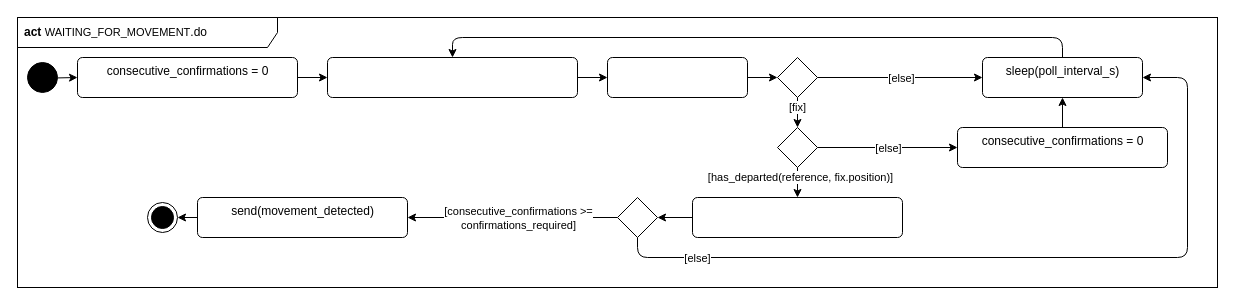
Image size: 1235x305. Some labels were removed from this diagram. Each missing label, with the centre of its shape:
"check_remote_shutdown_or_reboot()" belongs at point (452, 77).
"consecutive_confirmations += 1" belongs at point (797, 217).
"fix = poll_fix()" belongs at point (677, 77).
